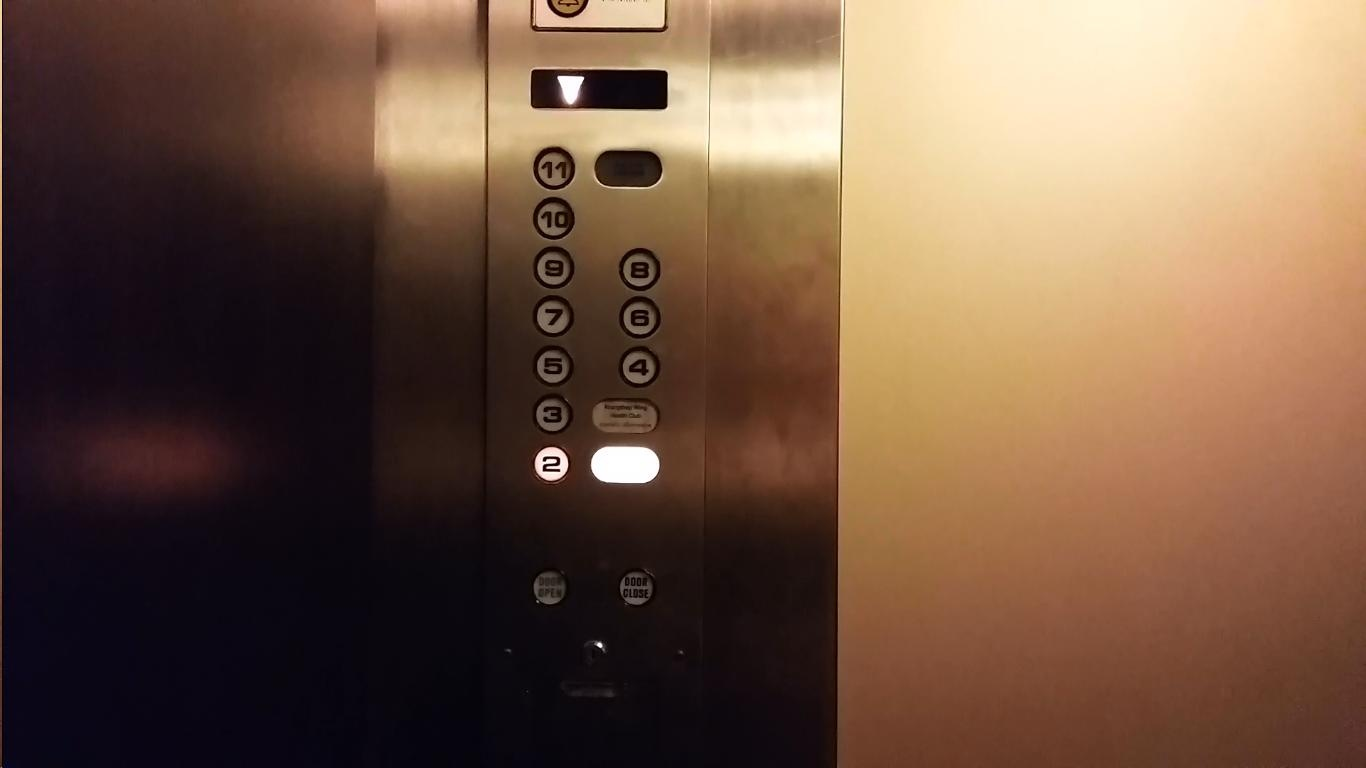10: (534, 195, 576, 240)
11: (533, 144, 577, 189)
2: (533, 446, 569, 482)
3: (533, 393, 573, 431)
4: (618, 345, 662, 388)
5: (533, 345, 574, 385)
6: (619, 295, 661, 340)
7: (533, 295, 574, 335)
8: (619, 246, 661, 291)
9: (533, 244, 575, 289)
led: (530, 67, 669, 110)
text: (616, 566, 656, 609), (531, 568, 570, 607)
